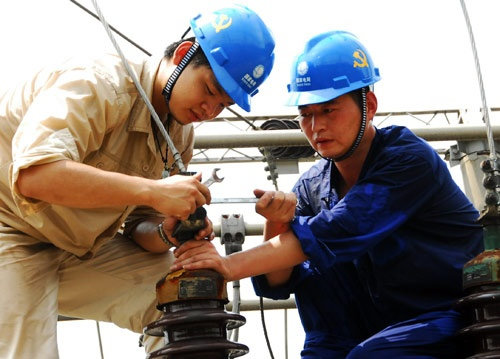blue: (158, 4, 277, 128), (282, 26, 384, 164)
